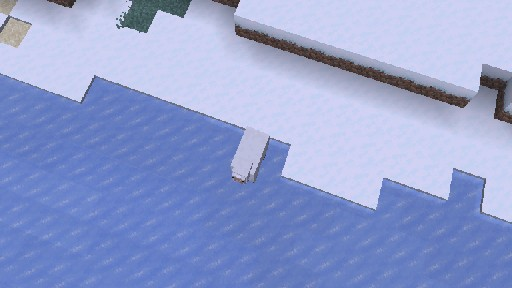sheep: (229, 125, 269, 185)
